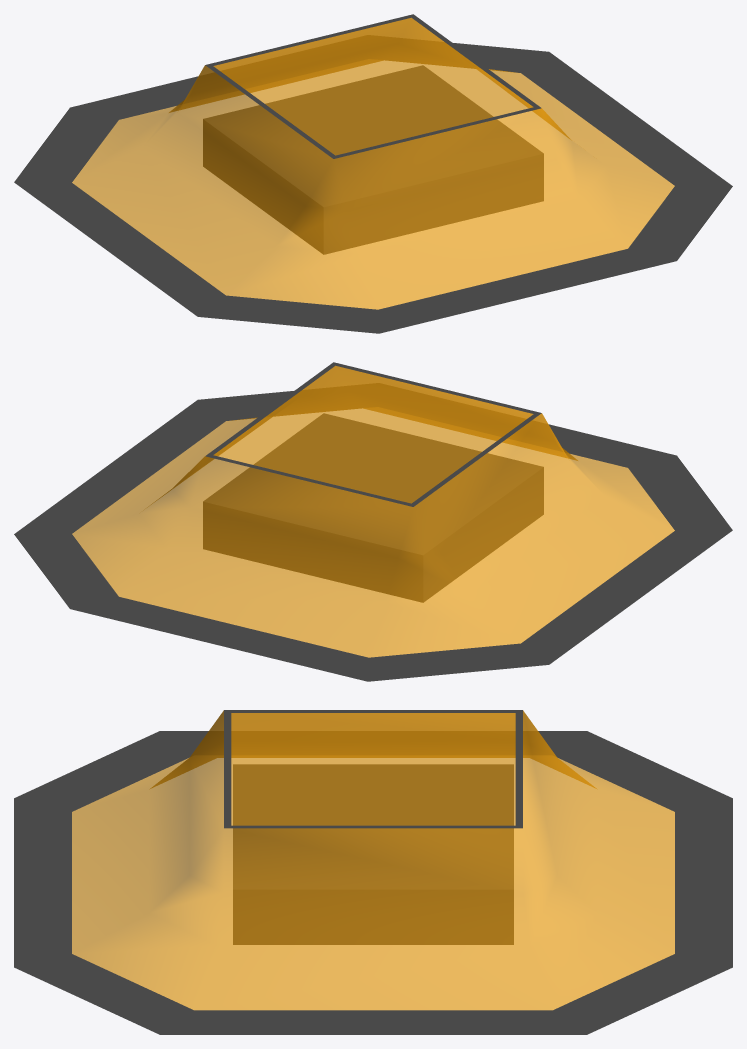
Rendered from RampSquare.fbx.
3 renders of one model, top to bottom at view 1: azimuth 30°, elevation 25°; view 2: azimuth 150°, elevation 25°; view 3: azimuth 270°, elevation 25°, orthographic. The views are drawn at different scales.
Visible parts, largest first — view 1: RampSquare, square; view 2: RampSquare, square; view 3: RampSquare, square.
Boxes of the visible parts, x1,y1,x2,y2 form: RampSquare: (14,14,732,333); square: (203,65,543,254); RampSquare: (14,362,732,681); square: (203,413,543,602); RampSquare: (14,710,732,1034); square: (233,764,513,944).
Bounding box in the file's own units: 7.15 × 1.25 × 7.15.
